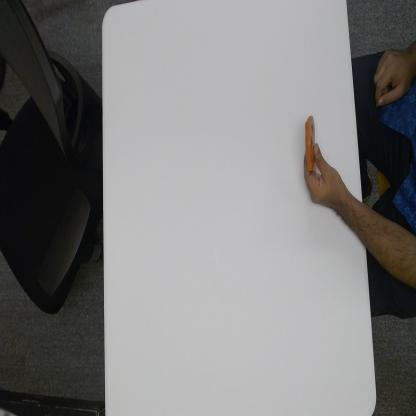Arm: (340, 184, 416, 290)
Hand: (300, 148, 342, 210)
Pretzel: (302, 108, 317, 172)
